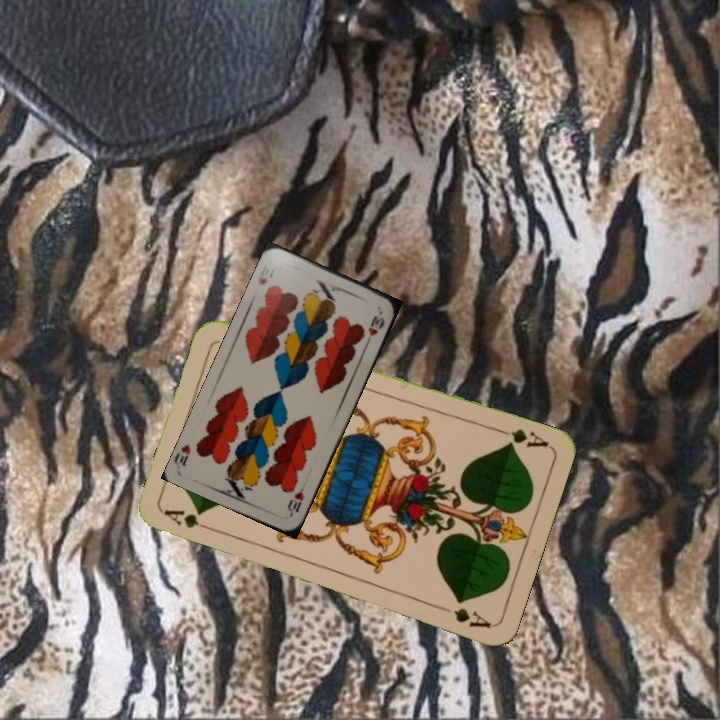GA: (160, 505, 218, 535), (493, 424, 551, 450)
H10: (283, 480, 308, 519), (254, 264, 277, 288)
